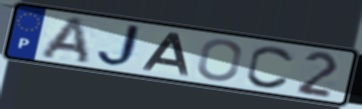2: (295, 50, 343, 101)
A: (37, 15, 92, 66), (139, 30, 192, 78)
C: (244, 44, 297, 91)
J: (95, 23, 148, 69)
O: (195, 38, 245, 82)
